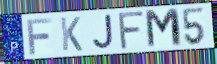5: (181, 6, 207, 47)
F: (118, 10, 147, 51), (25, 17, 54, 56)
J: (92, 13, 115, 51)
K: (59, 16, 84, 53)
M: (144, 7, 185, 50)
